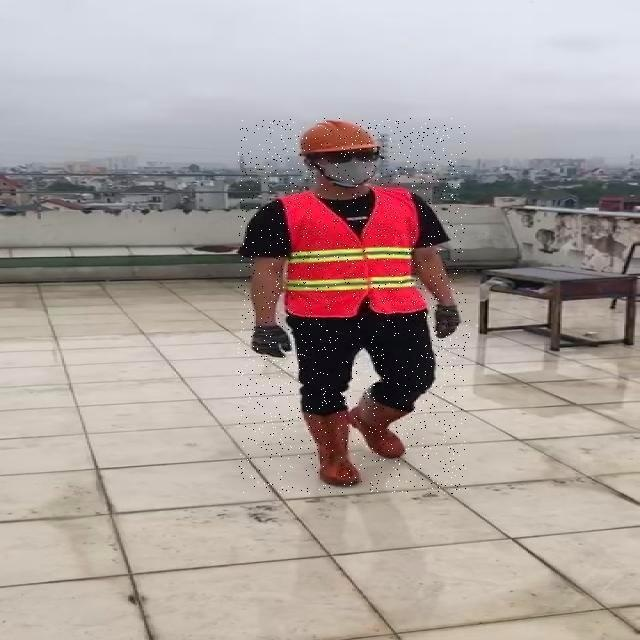Guantes: (254, 312, 290, 370), (439, 300, 464, 348)
Mascara: (324, 154, 375, 190)
